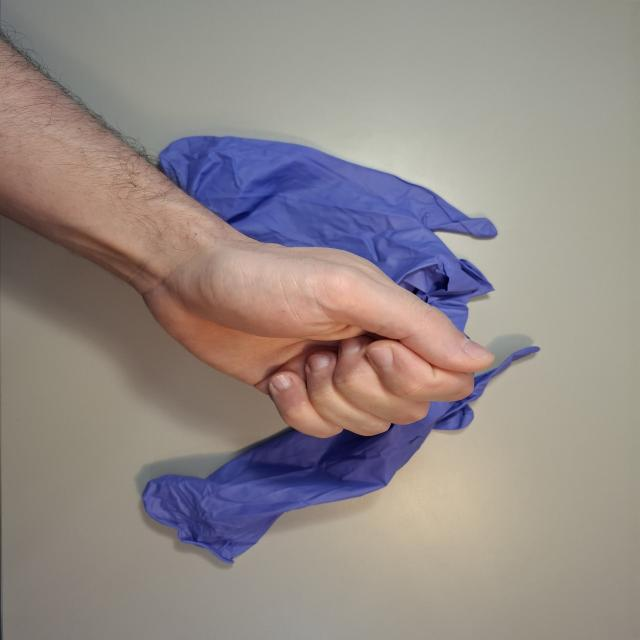glove_off: (134, 238, 498, 441)
